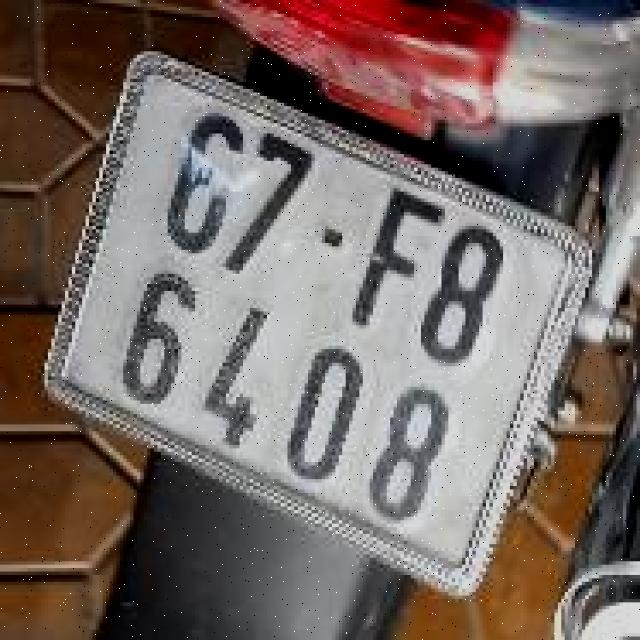0: (274, 331, 380, 497)
4: (188, 292, 298, 456)
6: (148, 95, 263, 268), (105, 259, 215, 420)
7: (213, 124, 326, 294)
8: (404, 211, 524, 384), (353, 369, 469, 535)
F: (339, 175, 456, 346)
